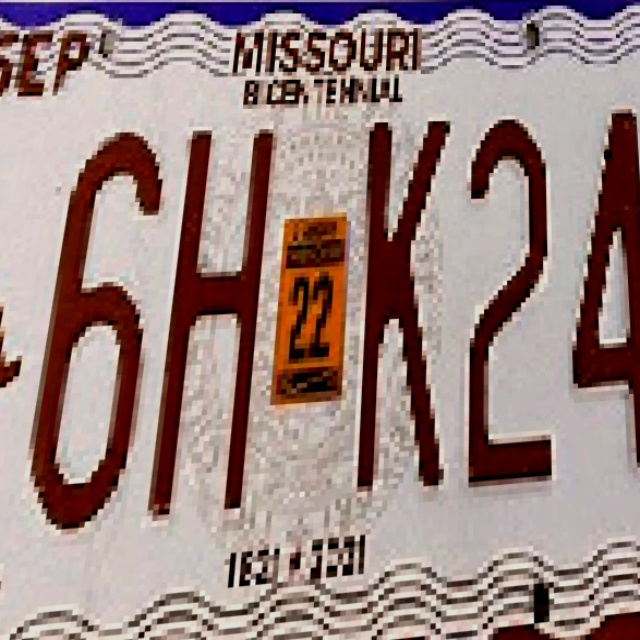ISA: (0, 186, 54, 429)
